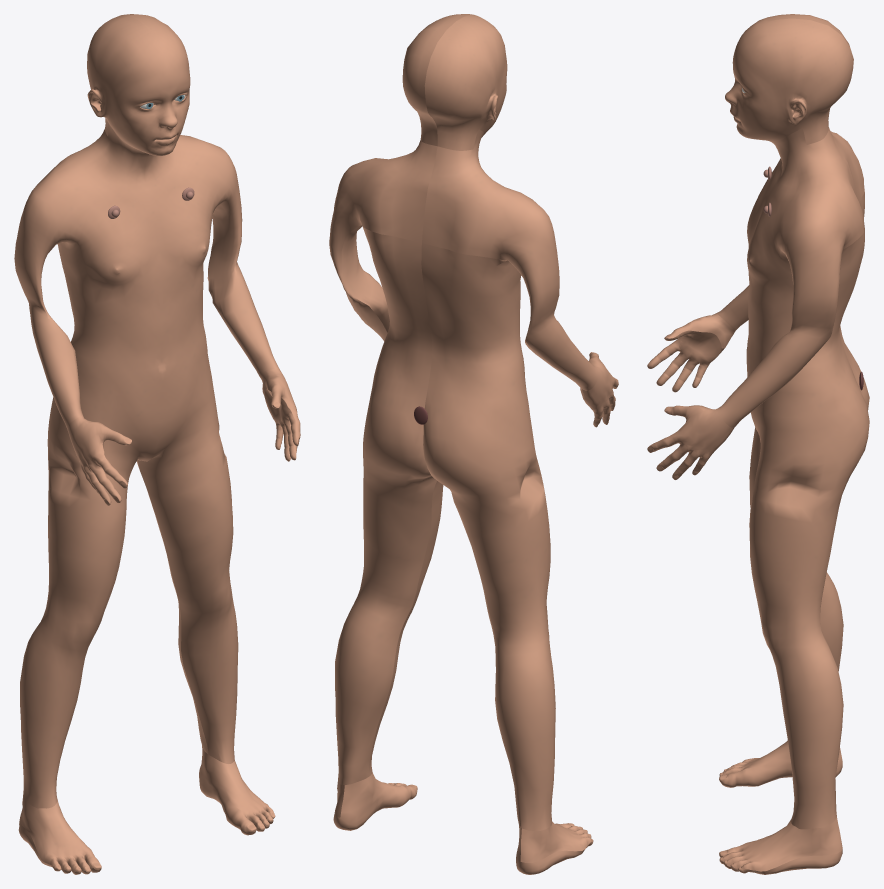
The model's file is body-kind-divers-real-v3.glb.
3 views of the same model, side by side, from view 1: azimuth 30°, elevation 25°; view 2: azimuth 150°, elevation 25°; view 3: azimuth 270°, elevation 25° (orthographic).
Parts seen in each view (by area): view 1: real-human-body; view 2: real-human-body; view 3: real-human-body.
Boxes of the visible parts, x1,y1,x2,y2 form: real-human-body: (14, 14, 300, 874); real-human-body: (329, 14, 618, 874); real-human-body: (647, 14, 869, 874).
Size of the model in its own units: 0.4105 by 1.42 by 0.3554.
7 materials, 1 textured.
